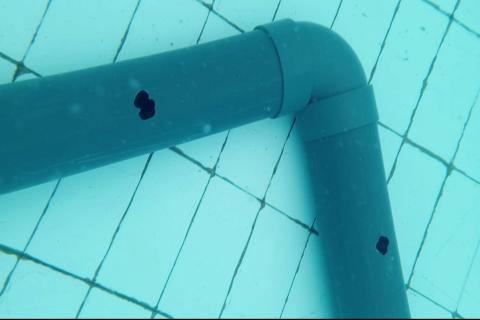kebocoran: (133, 88, 157, 121), (374, 233, 388, 254)
